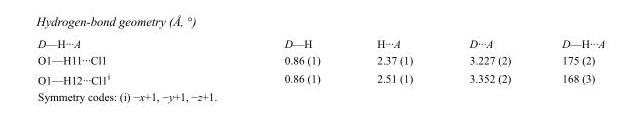table: (37, 36, 604, 85)
table column: (37, 36, 196, 85), (196, 36, 347, 85), (440, 36, 535, 85), (347, 36, 440, 85), (535, 36, 604, 85)
table row: (37, 51, 604, 68), (37, 68, 604, 85), (37, 36, 604, 51)
